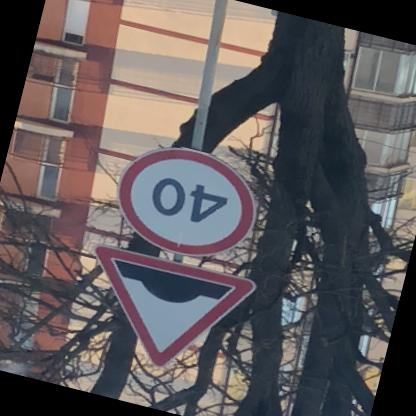speedlimit: (109, 138, 268, 271)
